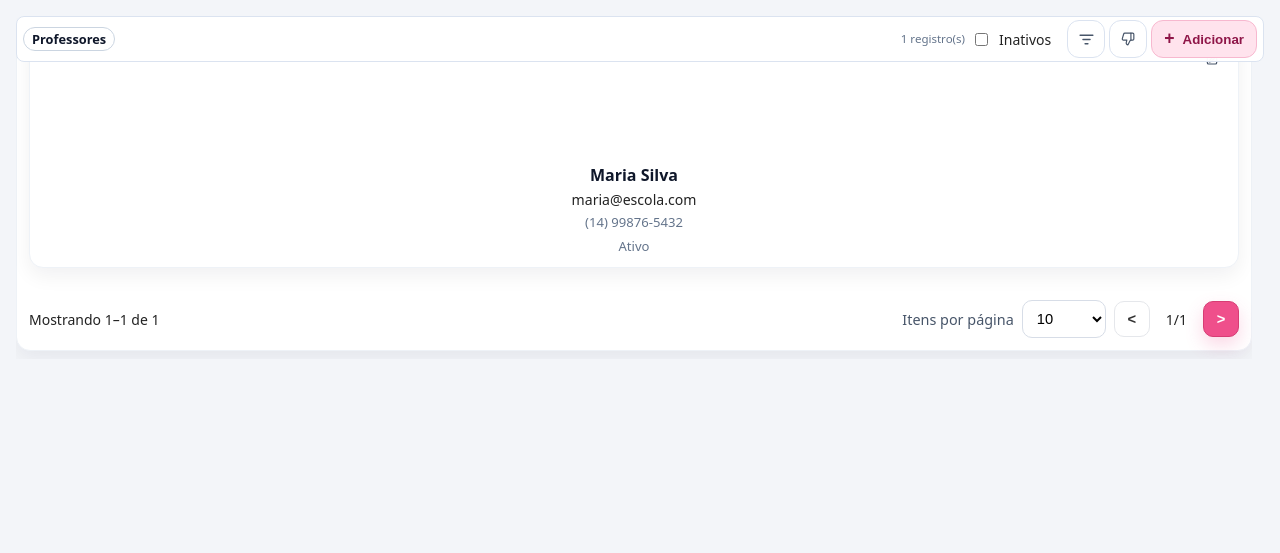
Test: Fatia final das listagens › Professores reaproveita os registros carregados quando faltam opções de filtro
The width and height of the screenshot is (1280, 553).
Expected: the text "(14) 99876-5432" is shown, x1=585 y1=213 x2=683 y2=231
Click the button named "Abrir filtros".
click(1086, 39)  # box x1=1067 y1=20 x2=1105 y2=58
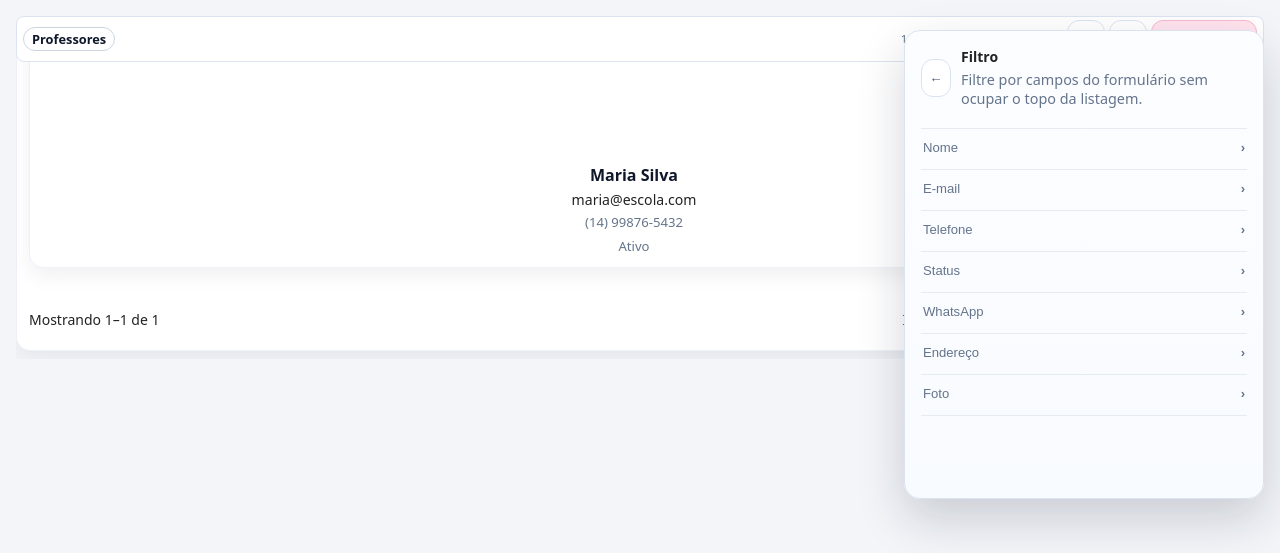
Click the button "Nome ›".
click(940, 148)  # box x1=921 y1=129 x2=1247 y2=170
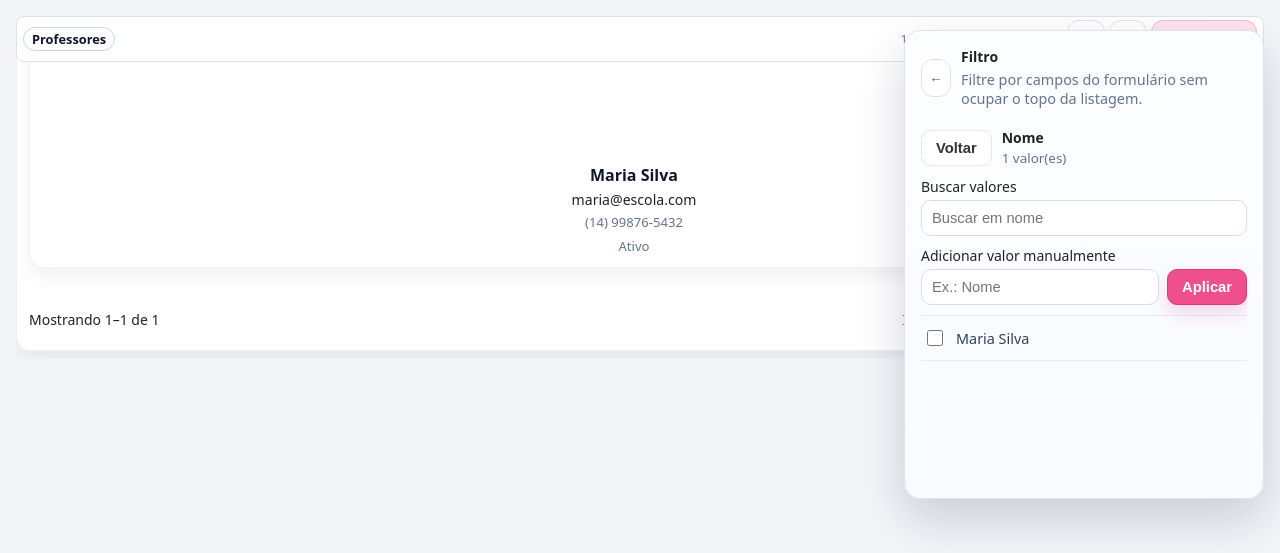
Expected: the checkbox labelled "Maria Silva" is shown, x1=927 y1=330 x2=943 y2=346
